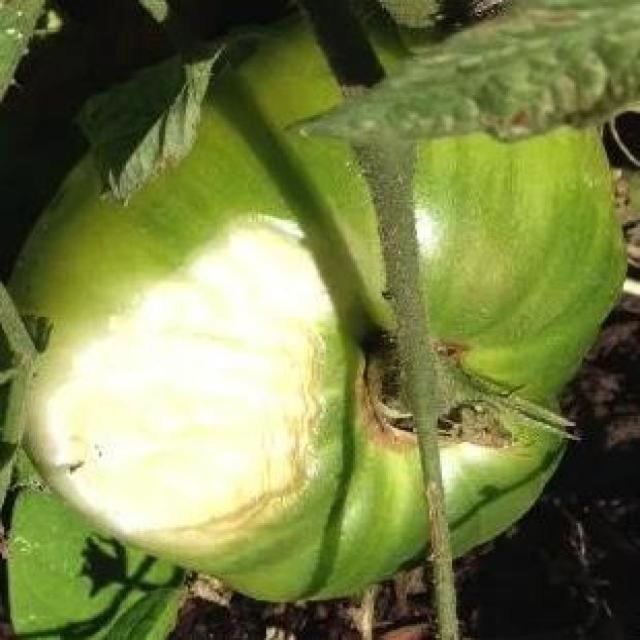Sunscald Fruit: (27, 117, 231, 373)
